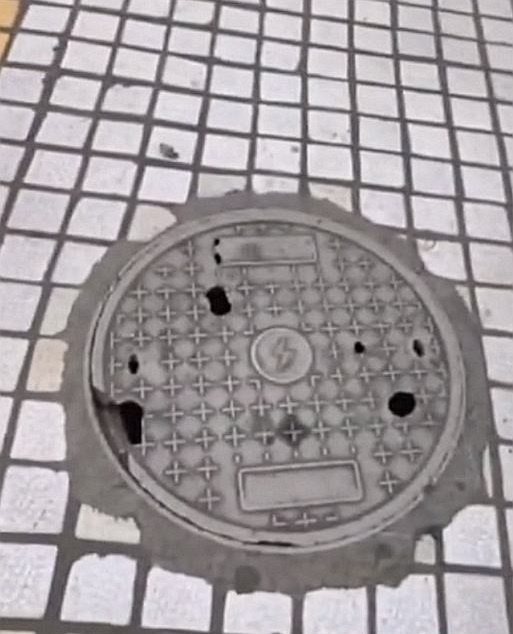well: (79, 207, 470, 552)
